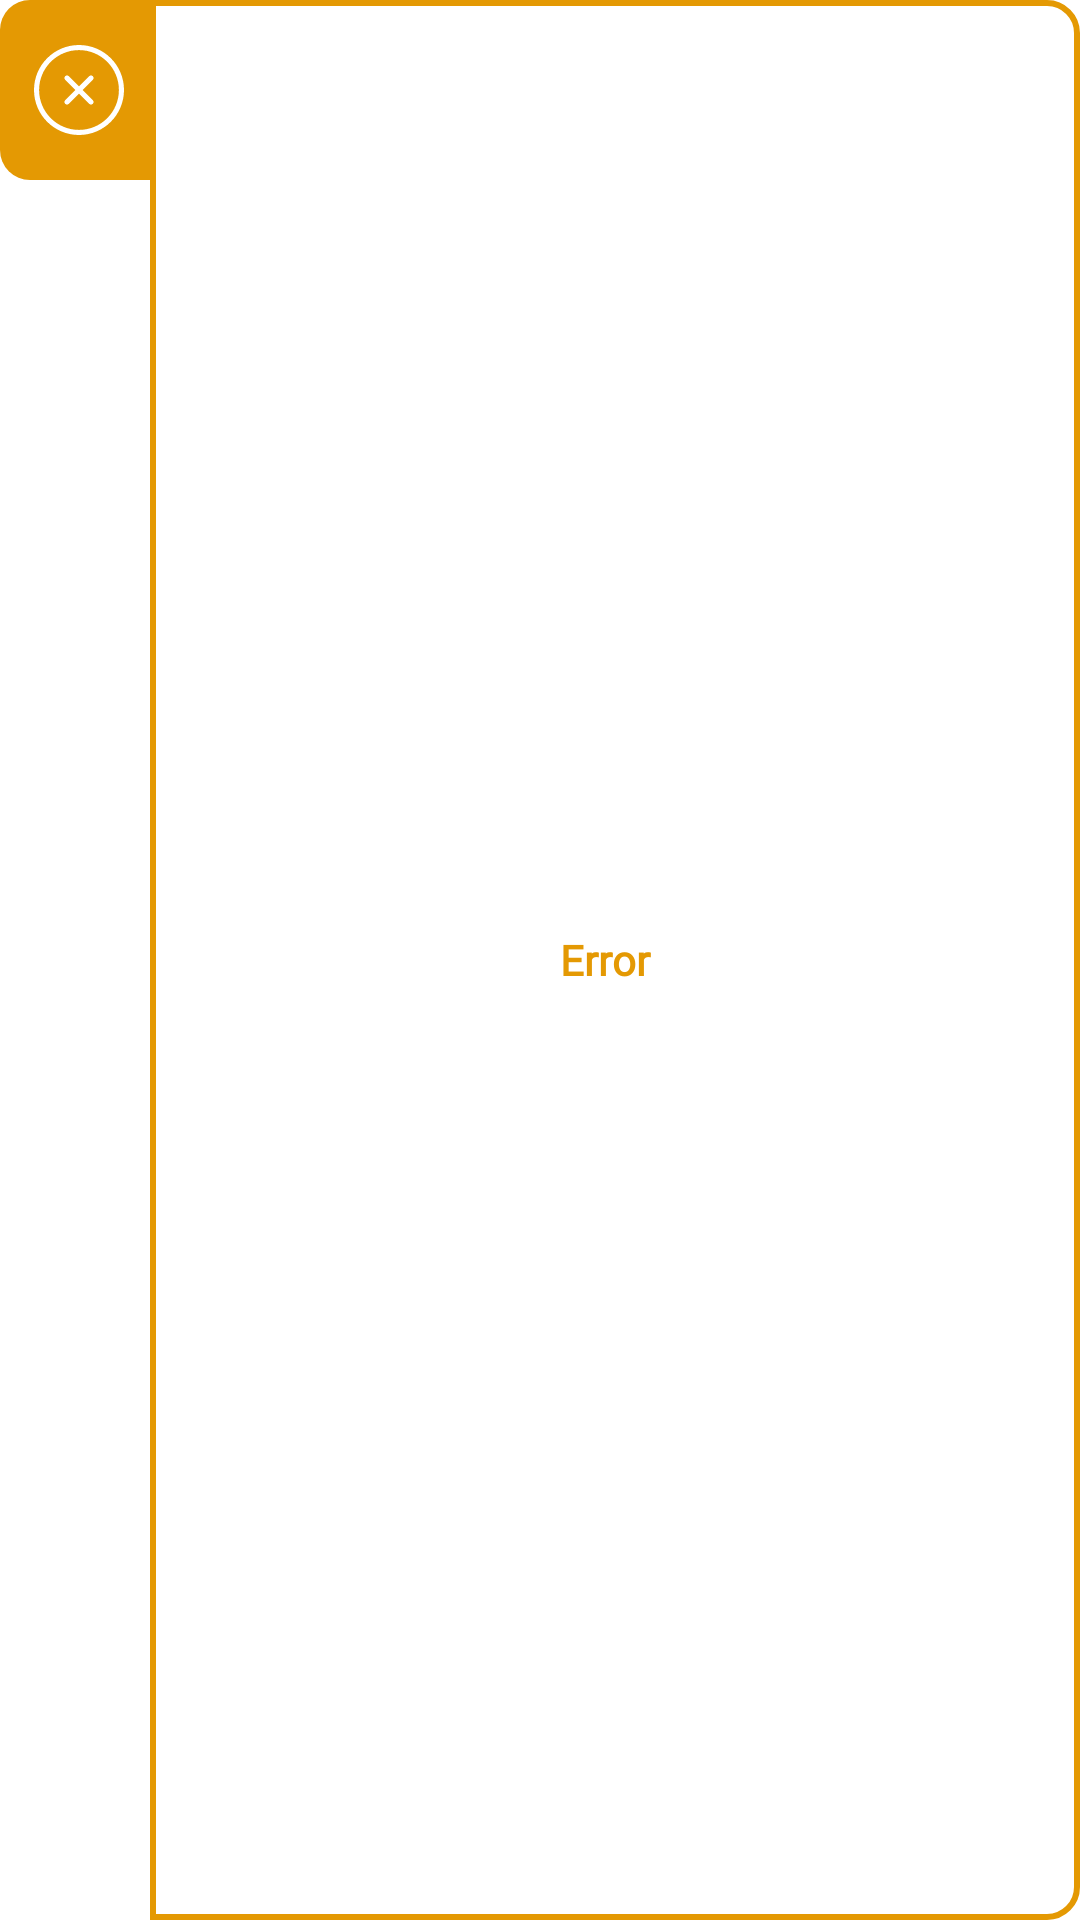

Icons on this 1080x1920 Android screen, each with its box as detection(x1, y1, x2, y2):
error: detection(34, 45, 124, 135)
